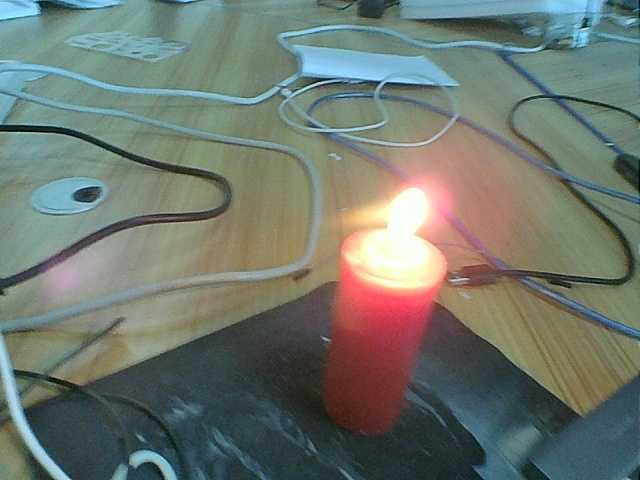candle: (335, 257, 443, 447)
fire: (354, 184, 446, 280)
